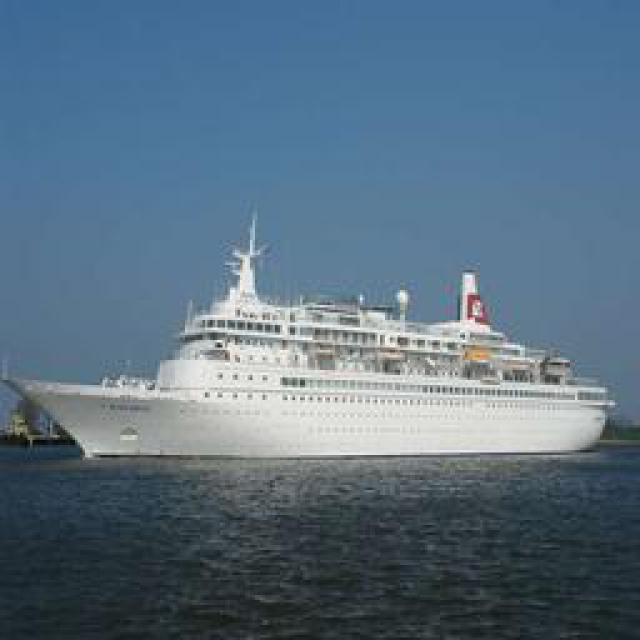Ship: (25, 205, 620, 460)
